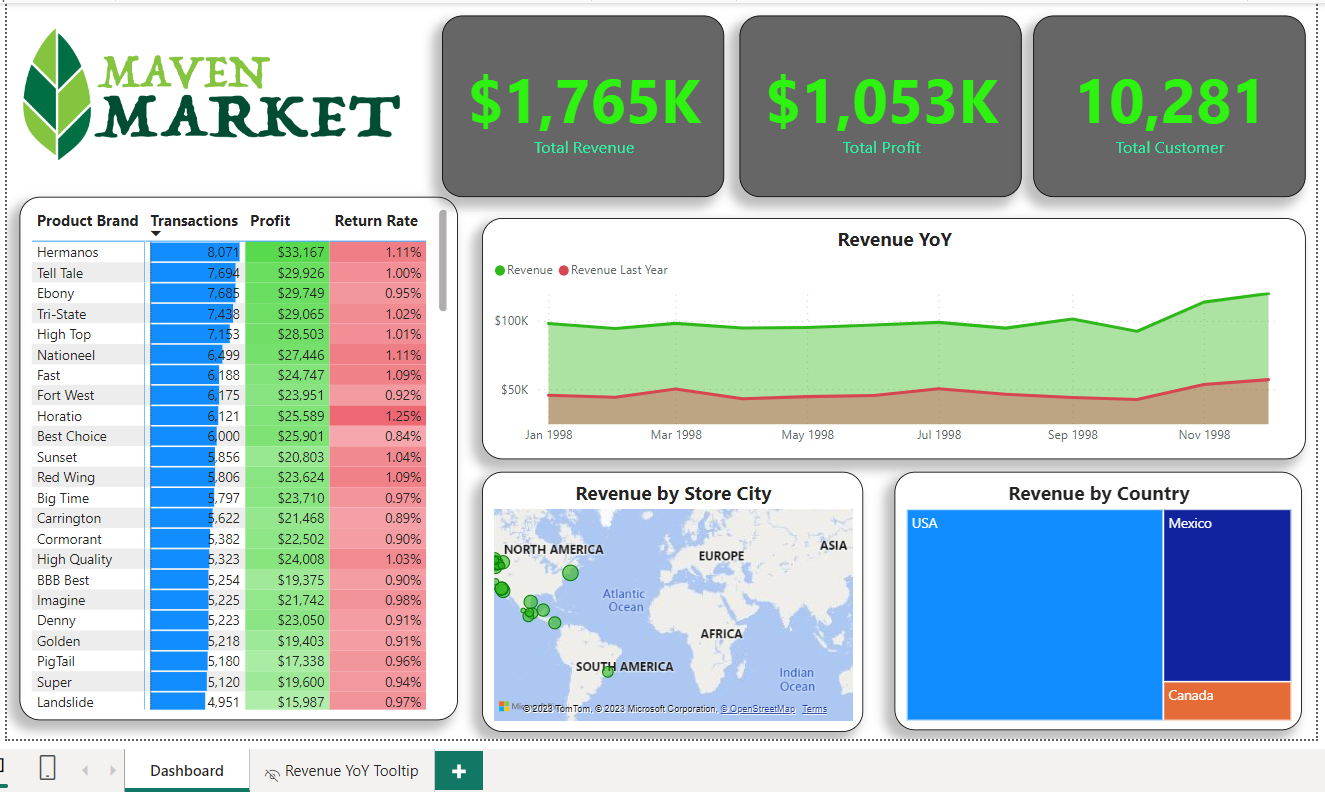

This screenshot's page, from the dashboard's own definition file:
{"tool":"powerbi","page":{"name":"Dashboard","canvas":[1280,720],"ordinal":0},"visuals":[{"type":"image","box":[0,0,397.3,177.2],"z":0},{"type":"pivotTable","fields":{"Rows":["Products Lookup.product_brand"],"Values":["Measures Lookup.Total Transactions","Measures Lookup.Total Profit","Measures Lookup.Return Rate"]},"box":[12.2,189.5,429.1,512.2],"z":1000},{"type":"card","fields":{"Values":["Measures Lookup.Total Revenue"]},"box":[425.4,12.2,276.3,177.2],"z":2000},{"type":"card","fields":{"Values":["Measures Lookup.Total Profit"]},"box":[716.3,12.2,276.3,177.2],"z":3000},{"type":"card","fields":{"Values":["Measures Lookup.Total Customer"]},"box":[1003.6,12.2,266.5,177.2],"z":4000},{"type":"areaChart","title":"Revenue YoY","fields":{"Category":["Calendar Lookup.Start of Month"],"Y":["Measures Lookup.Total Revenue","Measures Lookup.Revenue YoY"]},"box":[464.5,210.3,805.6,235.9],"z":5000},{"type":"map","title":"Revenue by Store City","fields":{"Category":["Stores Lookup.store_city"],"Size":["Measures Lookup.Total Revenue"]},"box":[464.5,458.4,372.8,254.3],"z":5001},{"type":"treemap","title":"Revenue by Country","fields":{"Group":["Stores Lookup.store_country"],"Values":["Measures Lookup.Total Revenue"]},"box":[867.9,458.4,398.5,253],"z":5002}]}

Visuals, with their boxes in screenshot pixels (x1, y1, x2, y2):
image: {"x1": 3, "y1": 0, "x2": 409, "y2": 181}
pivotTable - Products Lookup.product_brand x Measures Lookup.Total Transactions: {"x1": 16, "y1": 193, "x2": 454, "y2": 716}
card - Measures Lookup.Total Revenue: {"x1": 438, "y1": 12, "x2": 720, "y2": 193}
card - Measures Lookup.Total Profit: {"x1": 735, "y1": 12, "x2": 1017, "y2": 193}
card - Measures Lookup.Total Customer: {"x1": 1028, "y1": 12, "x2": 1300, "y2": 193}
"Revenue YoY" areaChart: {"x1": 478, "y1": 215, "x2": 1300, "y2": 456}
"Revenue by Store City" map: {"x1": 478, "y1": 468, "x2": 858, "y2": 728}
"Revenue by Country" treemap: {"x1": 889, "y1": 468, "x2": 1296, "y2": 726}
